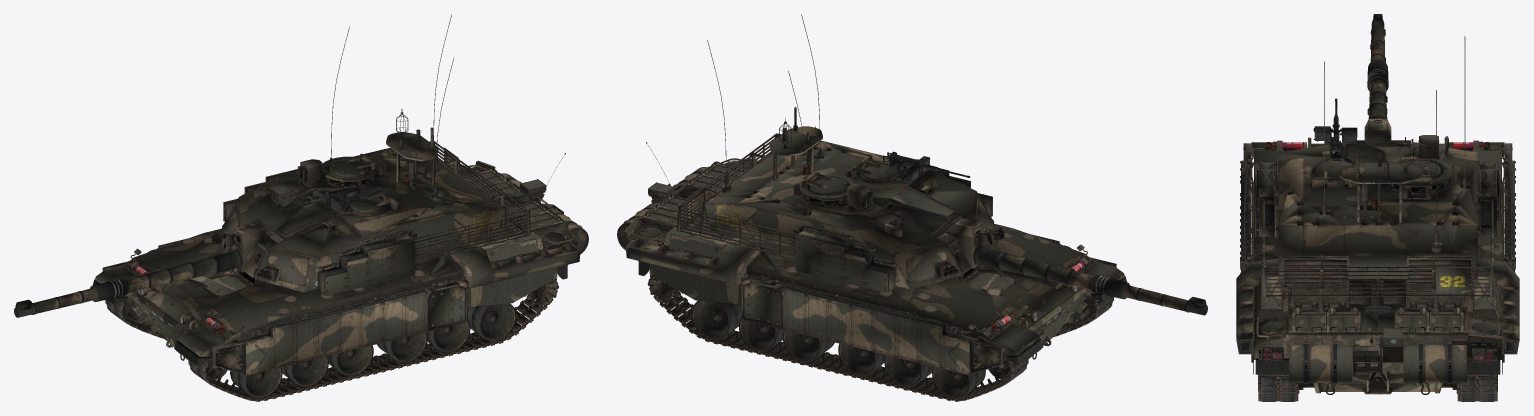
File: uk-challenger.glb
The picture shows the model from 3 angles, left to right: view 1: azimuth 30°, elevation 25°; view 2: azimuth 150°, elevation 25°; view 3: azimuth 270°, elevation 25°; orthographic projection. The views are drawn at different scales.
Parts seen in each view (by area): view 1: root; view 2: root; view 3: root.
Boxes of the visible parts, box(x1,y1,x2,y2) form: root: box(14, 14, 588, 401); root: box(617, 14, 1207, 401); root: box(1236, 14, 1519, 401).
Size of the model in its own units: 11.5 by 5.46 by 4.3.
Materials: 5 (5 with a texture image).
